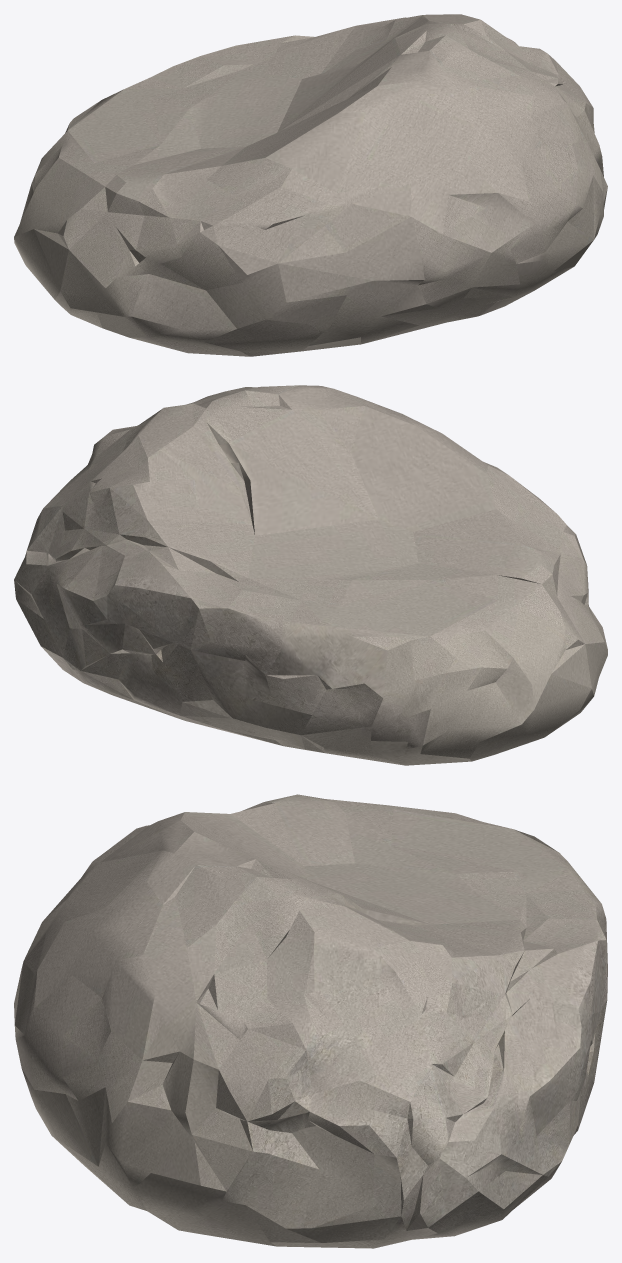
Rendered from co_rounded_limestone.glb.
3 views of the same model, one above another, from view 1: azimuth 30°, elevation 25°; view 2: azimuth 150°, elevation 25°; view 3: azimuth 270°, elevation 25° (orthographic). The views are drawn at different scales.
Visible parts, largest first — view 1: output_unwrapped; view 2: output_unwrapped; view 3: output_unwrapped.
Part boxes in pixels (x1,y1,x2,y2): output_unwrapped: (14,14,607,356); output_unwrapped: (14,385,607,765); output_unwrapped: (14,794,607,1248).
Bounding box in the file's own units: 1.9 × 0.8366 × 1.47.
1 material, 1 textured.
